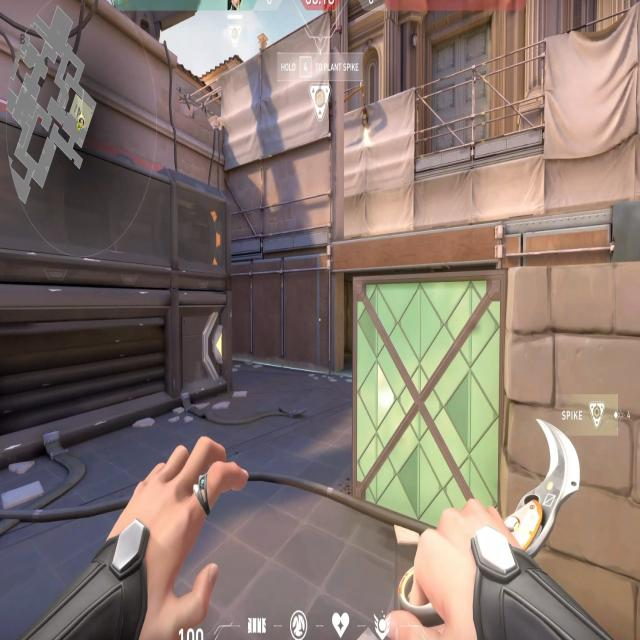A_Heaven_Wall: (233, 3, 358, 245)
A_Site_Box: (340, 258, 640, 587)
